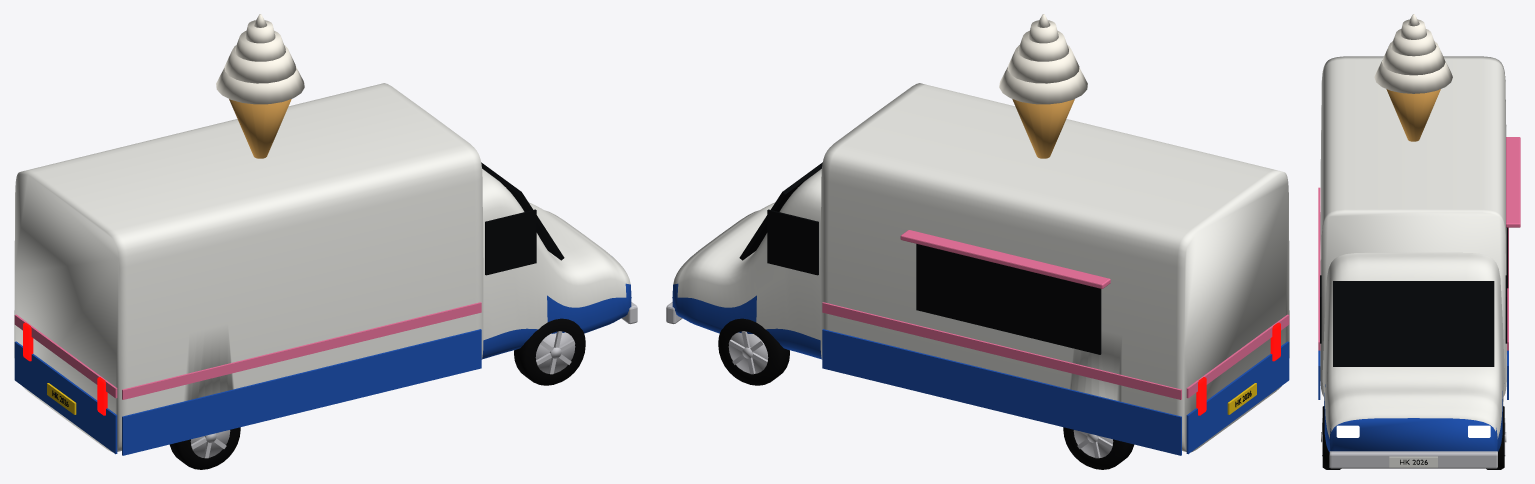
The model's file is icecream.glb.
3 renders of one model, left to right at view 1: azimuth 30°, elevation 25°; view 2: azimuth 150°, elevation 25°; view 3: azimuth 270°, elevation 25°, orthographic. The views are drawn at different scales.
Visible parts, largest first — view 1: box, skirt.001, cab, stripe.001, skirtR, cabwin.001, w_tyre.001, cone, swirl0, swirl1, w_tyre.003, stripeR (+3 smaller); view 2: box, skirt, cab, hatch, stripe, skirtR, cabwin, canopy, w_tyre, cone, swirl0, swirl1 (+5 smaller); view 3: box, cab, screen, bumperF, cone, swirl0, canopy, swirl1, swirl2, plate, stripe.001, swirl3 (+4 smaller).
Boxes of the visible parts, x1,y1,x2,y2 form: box: [14, 83, 483, 452]; skirt.001: [122, 329, 481, 455]; cab: [482, 168, 631, 359]; stripe.001: [122, 302, 481, 399]; skirtR: [14, 341, 117, 454]; cabwin.001: [485, 209, 536, 275]; w_tyre.001: [514, 318, 585, 385]; cone: [229, 99, 291, 158]; swirl0: [216, 67, 304, 104]; swirl1: [224, 45, 296, 83]; w_tyre.003: [170, 427, 240, 469]; stripeR: [14, 314, 117, 398]; box: [820, 83, 1289, 452]; skirt: [822, 329, 1181, 455]; cab: [672, 168, 821, 359]; hatch: [916, 244, 1101, 354]; stripe: [822, 302, 1181, 399]; skirtR: [1186, 341, 1289, 454]; cabwin: [767, 209, 818, 275]; canopy: [900, 230, 1110, 288]; w_tyre: [718, 318, 789, 385]; cone: [1012, 99, 1074, 158]; swirl0: [999, 67, 1087, 104]; swirl1: [1007, 45, 1079, 83]; box: [1320, 56, 1506, 396]; cab: [1322, 252, 1504, 451]; screen: [1333, 281, 1494, 366]; bumperF: [1329, 451, 1497, 468]; cone: [1386, 89, 1440, 141]; swirl0: [1374, 60, 1452, 93]; canopy: [1506, 137, 1520, 227]; swirl1: [1382, 41, 1445, 75]; swirl2: [1391, 29, 1436, 56]; plate: [1389, 456, 1437, 467]; stripe.001: [1318, 187, 1320, 350]; swirl3: [1400, 19, 1426, 39].
Bounding box in the file's own units: 5.79 × 4.09 × 2.16.
